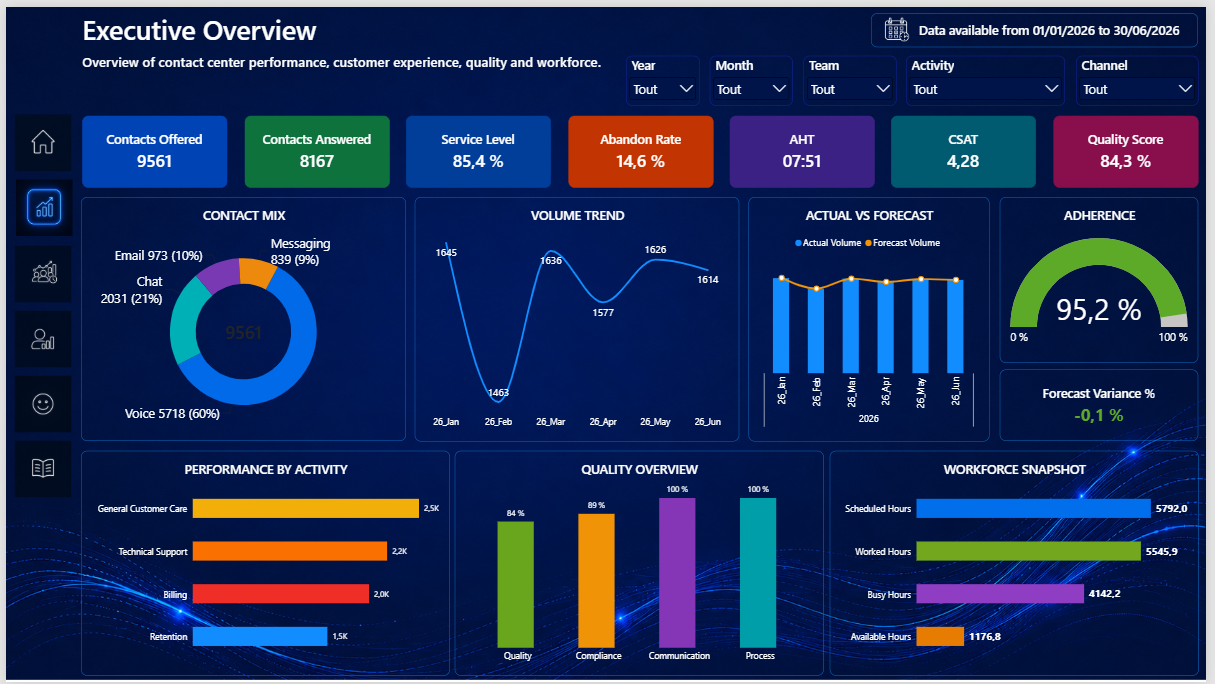

What the dashboard file says about the page in this screenshot:
{"tool":"powerbi","page":{"name":"Executive Overview","canvas":[1280,720],"ordinal":1},"visuals":[{"type":"shape","box":[0,0,94.5,720],"z":0},{"type":"image","box":[18.8,152.6,60,60],"z":0,"group":"g1"},{"type":"textbox","box":[108.6,9.7,318.5,55.5],"z":1000},{"type":"image","box":[18.8,224.6,60,60],"z":1000,"group":"g1"},{"type":"image","box":[0,0,97.5,90.2],"z":2000},{"type":"image","box":[18.8,296.5,60,60],"z":2000,"group":"g1"},{"type":"textbox","box":[108.6,65.1,405.4,32.6],"z":3000},{"type":"image","box":[18.8,368.5,60,60],"z":3000,"group":"g1"},{"type":"cardVisual","fields":{"Data":["Mes mesures.Unités vendues"]},"box":[98.6,172,190,100],"z":4000},{"type":"image","box":[18.8,440.4,60,60],"z":4000,"group":"g1"},{"type":"cardVisual","fields":{"Data":["Mes mesures.Chiffre d'affaires"]},"box":[295.6,172,190,100],"z":5000},{"type":"image","box":[19.1,512.4,59.8,59.8],"z":5000,"group":"g1"},{"type":"cardVisual","fields":{"Data":["Mes mesures.Marge totale"]},"box":[493.4,172,190,100],"z":6000},{"type":"cardVisual","fields":{"Data":["Mes mesures.Taux de marge"]},"box":[691.3,172,190,100],"z":7000},{"type":"cardVisual","fields":{"Data":["Mes mesures.Taux de réalisation CA"]},"box":[889.1,172,190,100],"z":8000},{"type":"cardVisual","fields":{"Data":["Mes mesures.Stock disponible"]},"box":[1087,172,189.4,100.1],"z":9000},{"type":"lineStackedColumnComboChart","title":"Revenue vs Target by Month","fields":{"Category":["Dim_Mois.MonthAdjusted"],"Y":["Mes mesures.Chiffre d'affaires"],"Y2":["Mes mesures.Objectif CA"]},"box":[98.9,284.7,592.4,407.8],"z":10000},{"type":"barChart","title":"Revenue Achievement by Region","fields":{"Category":["Dim_Agence.Region Hiérarchie.Region","Dim_Agence.Region Hiérarchie.City","Dim_Agence.Region Hiérarchie.Agency_Name"],"Y":["Mes mesures.Taux de réalisation CA"]},"box":[707,284.7,569.4,407.8],"z":11000},{"type":"slicer","fields":{"Values":["Dim_Mois.Year"]},"box":[973,10.7,148.4,65.1],"z":12000},{"type":"slicer","fields":{"Values":["Dim_Mois.Month"]},"box":[1128.7,10.7,148.4,65.1],"z":13000},{"type":"slicer","fields":{"Values":["Dim_Agence.Region"]},"box":[679.2,90.5,201.5,65.1],"z":14000},{"type":"slicer","fields":{"Values":["Dim_Agence.Agency_Name"]},"box":[888.5,90.5,232.8,65.1],"z":15000},{"type":"slicer","fields":{"Values":["Dim_Vehicule.Model"]},"box":[1129.2,90.5,150.8,65.1],"z":16000},{"type":"actionButton","box":[785.7,22.9,151.3,39.4],"z":17000},{"type":"group","id":"g1","title":"Groupe 1","box":[18.8,152.6,60,419.5],"z":18000}]}

Visuals, with their boxes in screenshot pixels (x1, y1, x2, y2), scaled from the page's 1280x720 canvas onto the 1215x684 screenshot:
shape: detection(0, 0, 90, 683)
image: detection(18, 145, 75, 202)
textbox: detection(103, 9, 405, 62)
image: detection(18, 213, 75, 270)
image: detection(0, 0, 93, 86)
image: detection(18, 282, 75, 339)
textbox: detection(103, 62, 488, 93)
image: detection(18, 350, 75, 407)
cardVisual - Mes mesures.Unités vendues: detection(94, 163, 274, 258)
image: detection(18, 418, 75, 475)
cardVisual - Mes mesures.Chiffre d'affaires: detection(281, 163, 461, 258)
image: detection(18, 487, 75, 544)
cardVisual - Mes mesures.Marge totale: detection(468, 163, 649, 258)
cardVisual - Mes mesures.Taux de marge: detection(656, 163, 837, 258)
cardVisual - Mes mesures.Taux de réalisation CA: detection(844, 163, 1024, 258)
cardVisual - Mes mesures.Stock disponible: detection(1032, 163, 1212, 258)
"Revenue vs Target by Month" lineStackedColumnComboChart: detection(94, 270, 656, 658)
"Revenue Achievement by Region" barChart: detection(671, 270, 1212, 658)
slicer - Dim_Mois.Year: detection(924, 10, 1064, 72)
slicer - Dim_Mois.Month: detection(1071, 10, 1212, 72)
slicer - Dim_Agence.Region: detection(645, 86, 836, 148)
slicer - Dim_Agence.Agency_Name: detection(843, 86, 1064, 148)
slicer - Dim_Vehicule.Model: detection(1072, 86, 1214, 148)
actionButton: detection(746, 22, 889, 59)
"Groupe 1" group: detection(18, 145, 75, 543)
